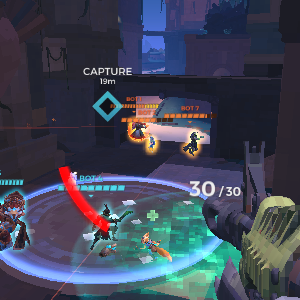model: (183, 129, 204, 158), (129, 117, 146, 143), (148, 133, 160, 155)
